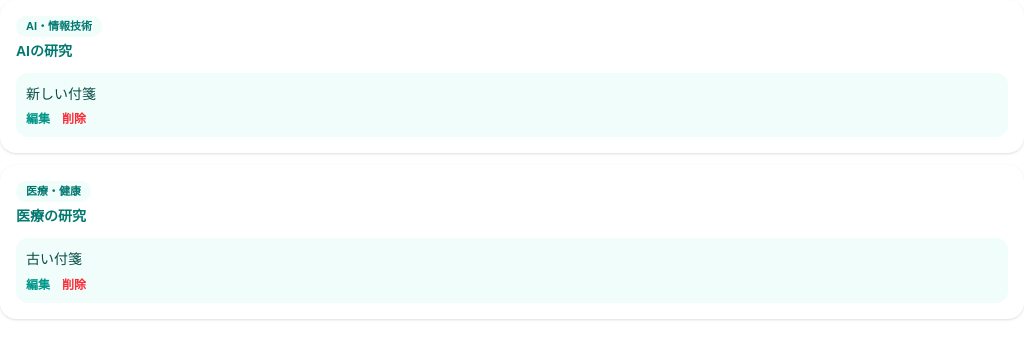
Test: 付箋一覧ページ - ログイン中は自分の付箋一覧を表示する › 付箋を削除すると、その項目が一覧から消えること
expect the text "新しい付箋" is shown: met, box [26,86,96,102]
Click the button "削除" below "新しい付箋". click: click(74, 119)
box: [62,111,86,127]
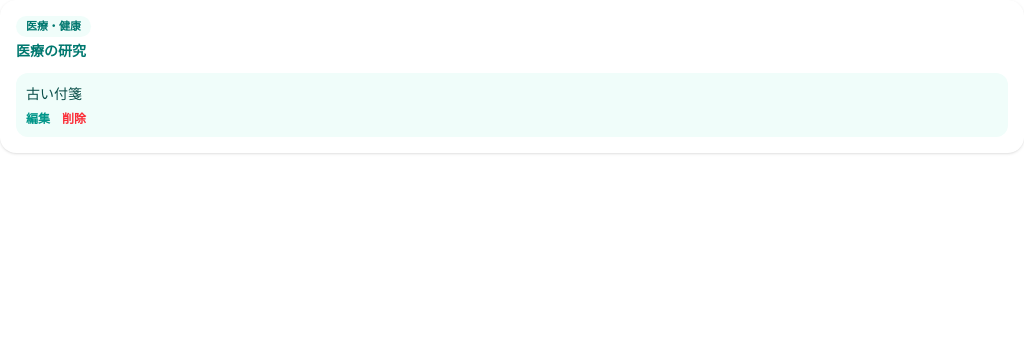
expect the text "古い付箋" is shown: met, box [26,86,82,102]
expect the text "新しい付箋" is gone: met
